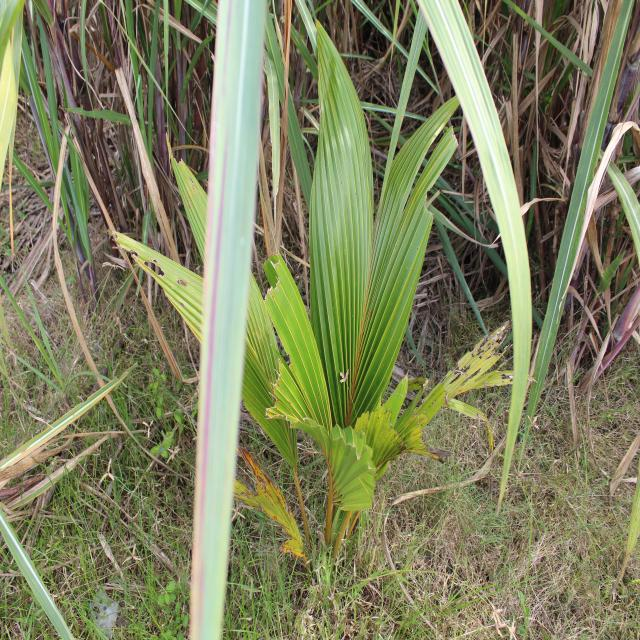Sugarcane: (517, 0, 639, 469), (186, 0, 272, 640), (0, 0, 25, 200)
